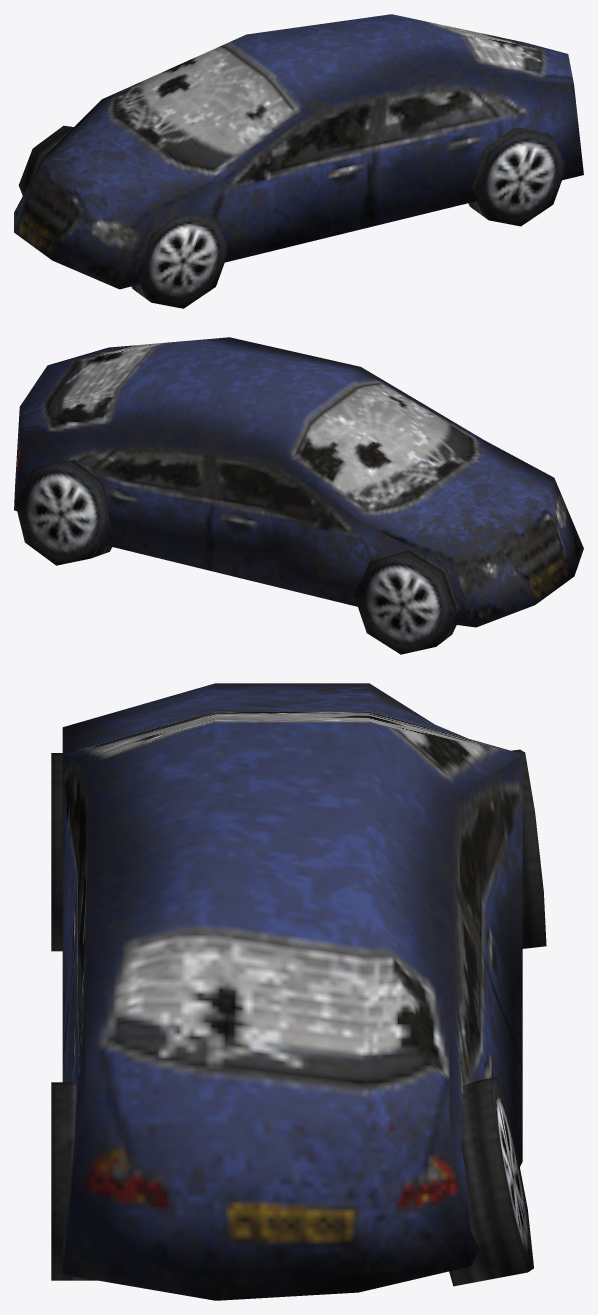
The model's file is car7_1.fbx.
3 renders of one model, top to bottom at view 1: azimuth 30°, elevation 25°; view 2: azimuth 150°, elevation 25°; view 3: azimuth 270°, elevation 25°, orthographic. The views are drawn at different scales.
Visible parts, largest first — view 1: car7_1; view 2: car7_1; view 3: car7_1.
Boxes of the visible parts, x1,y1,x2,y2 form: car7_1: [14, 14, 583, 308]; car7_1: [14, 337, 583, 654]; car7_1: [51, 683, 546, 1300].
Bounding box in the file's own units: 456 × 188 × 154.
1 material, 1 textured.
